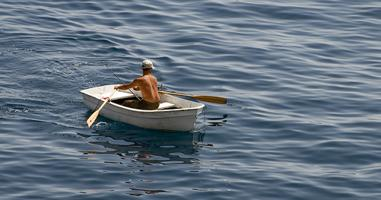person: (114, 60, 160, 112)
